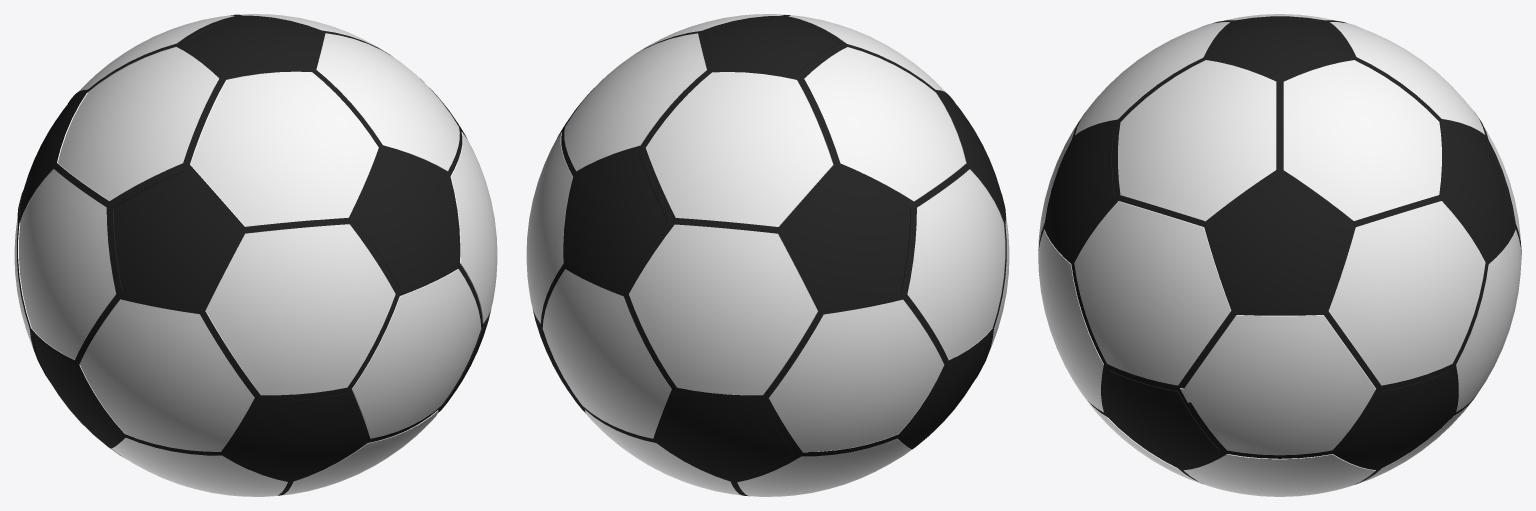
The model's file is soccer_ball.gltf.
3 renders of one model, left to right at view 1: azimuth 30°, elevation 25°; view 2: azimuth 150°, elevation 25°; view 3: azimuth 270°, elevation 25°, orthographic.
Parts seen in each view (by area): view 1: Icosphere.014; view 2: Icosphere.014; view 3: Icosphere.014.
Part boxes in pixels (left/top/right/bottom): Icosphere.014: left=14, top=14, right=497, bottom=496; Icosphere.014: left=526, top=14, right=1009, bottom=496; Icosphere.014: left=1038, top=14, right=1521, bottom=496.
Size of the model in its own units: 2.2 by 2.2 by 2.2.
Materials: 1 (1 with a texture image).
